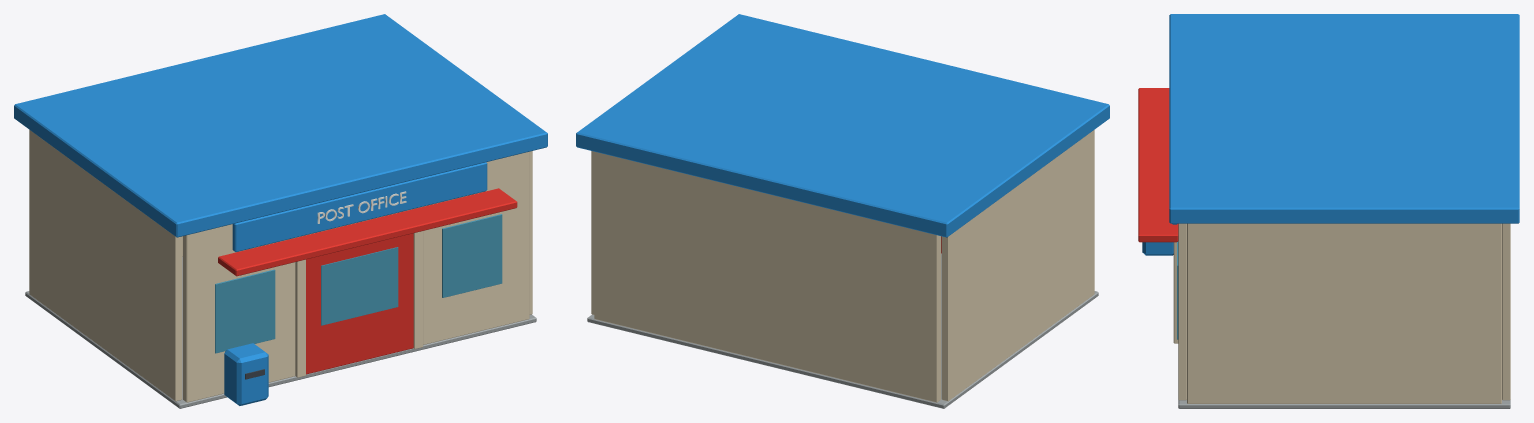
Rendered from PostOffice.glb.
3 views of the same model, side by side, from view 1: azimuth 30°, elevation 25°; view 2: azimuth 150°, elevation 25°; view 3: azimuth 270°, elevation 25° (orthographic). The views are drawn at different scales.
Parts seen in each view (by area): view 1: FTF_Building_SmallPostOffice_8x6m_Mesh; view 2: FTF_Building_SmallPostOffice_8x6m_Mesh; view 3: FTF_Building_SmallPostOffice_8x6m_Mesh.
Part boxes in pixels (bbox=[...]): FTF_Building_SmallPostOffice_8x6m_Mesh: bbox=[14, 14, 547, 408]; FTF_Building_SmallPostOffice_8x6m_Mesh: bbox=[576, 14, 1109, 408]; FTF_Building_SmallPostOffice_8x6m_Mesh: bbox=[1138, 14, 1519, 408].
Size of the model in its own units: 8.32 by 4.08 by 6.88.
